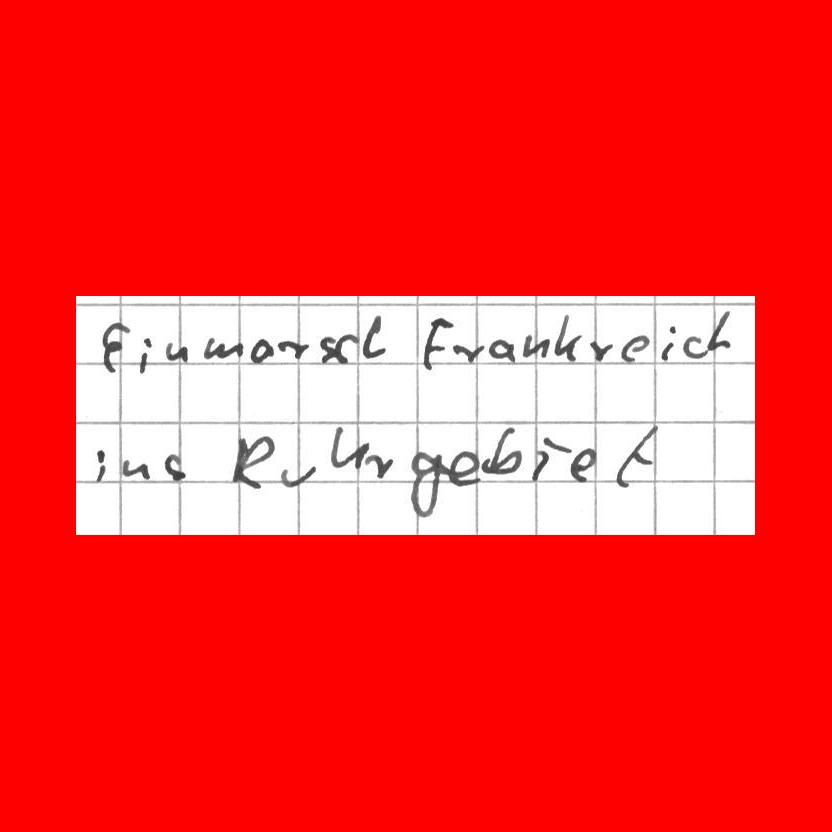Char: (612, 420, 660, 489), (228, 432, 276, 493), (408, 448, 446, 515), (481, 424, 521, 479), (328, 421, 368, 476), (419, 314, 453, 374), (97, 320, 133, 374), (534, 434, 567, 481), (552, 313, 581, 362), (706, 310, 735, 354), (449, 448, 480, 488), (202, 335, 245, 362), (361, 315, 386, 361), (569, 446, 597, 485), (279, 461, 314, 489), (619, 334, 650, 363), (334, 331, 359, 365), (161, 451, 186, 484), (657, 321, 676, 363), (521, 332, 550, 359), (369, 452, 398, 479), (276, 338, 311, 360), (488, 337, 518, 362), (90, 446, 109, 484), (121, 457, 151, 481), (317, 334, 340, 364), (249, 337, 275, 363), (588, 337, 614, 363), (453, 342, 484, 363), (681, 333, 706, 359), (164, 340, 190, 365), (137, 336, 153, 376)
